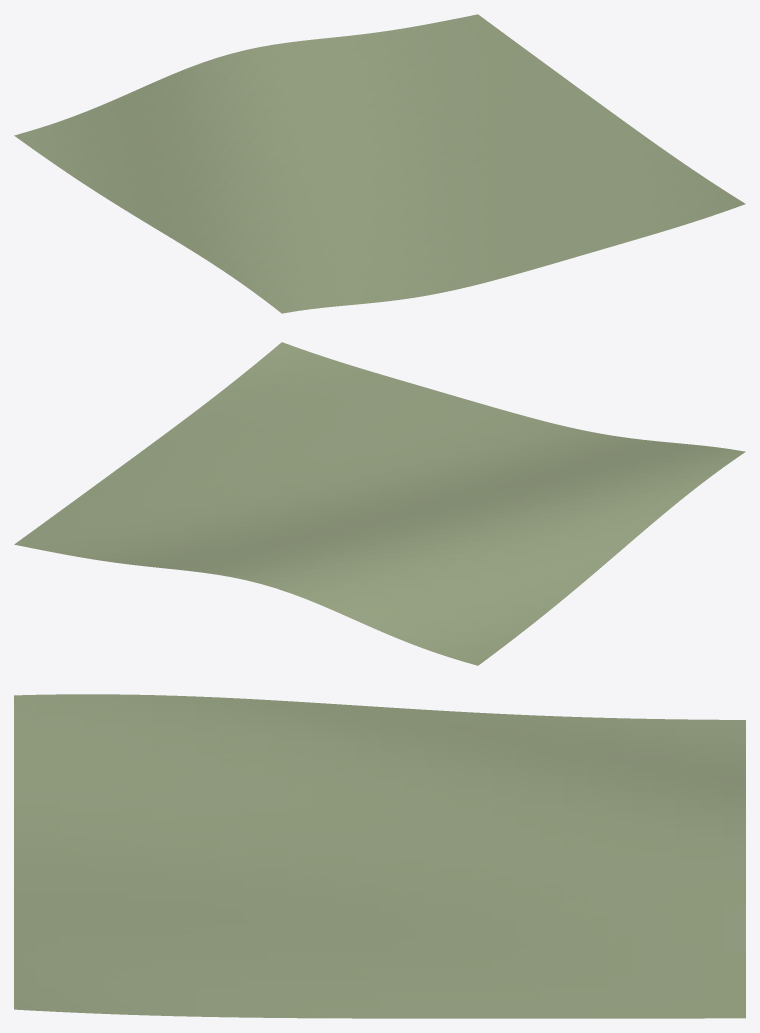
Rendered from desert-5-8.glb.
3 views of the same model, one above another, from view 1: azimuth 30°, elevation 25°; view 2: azimuth 150°, elevation 25°; view 3: azimuth 270°, elevation 25° (orthographic). The views are drawn at different scales.
Visible parts, largest first — view 1: desert-5-8; view 2: desert-5-8; view 3: desert-5-8.
Part boxes in pixels (bbox=[...]): desert-5-8: bbox=[14, 14, 745, 313]; desert-5-8: bbox=[14, 342, 745, 665]; desert-5-8: bbox=[14, 694, 745, 1018].
Size of the model in its own units: 512 by 31.37 by 512.
